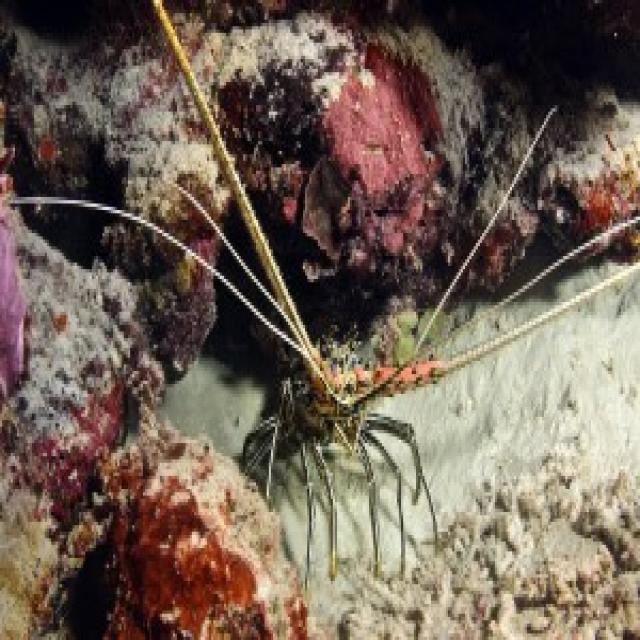lobsters: (133, 92, 506, 624)
